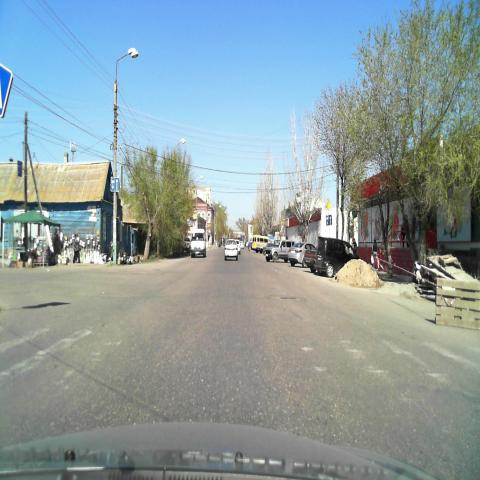5_11: (110, 178, 120, 192)
